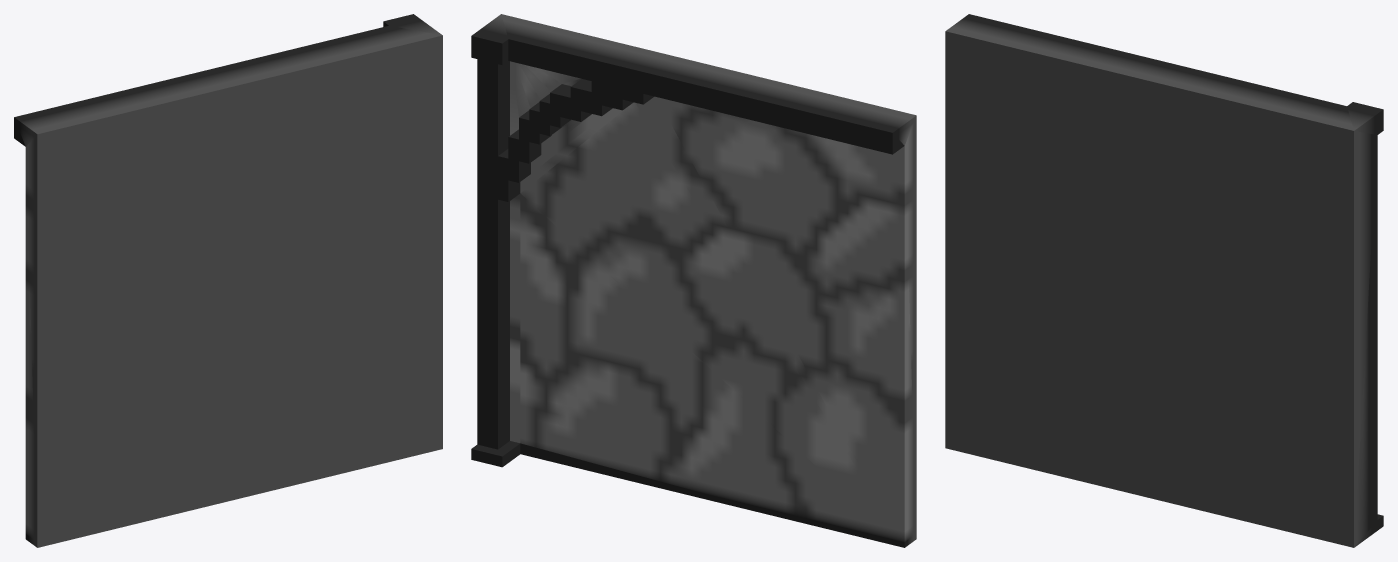
Rendered from WallDefault_SL.fbx.
3 renders of one model, left to right at view 1: azimuth 30°, elevation 25°; view 2: azimuth 150°, elevation 25°; view 3: azimuth 330°, elevation 25°, orthographic. The views are drawn at different scales.
Parts seen in each view (by area): view 1: WallDefault_SL.Merged; view 2: WallDefault_SL.Merged; view 3: WallDefault_SL.Merged.
Boxes of the visible parts, bbox=[...] form: WallDefault_SL.Merged: bbox=[14, 14, 442, 547]; WallDefault_SL.Merged: bbox=[471, 14, 916, 547]; WallDefault_SL.Merged: bbox=[945, 14, 1383, 547].
Bounding box in the file's own units: 8000 × 7800 × 1000.
